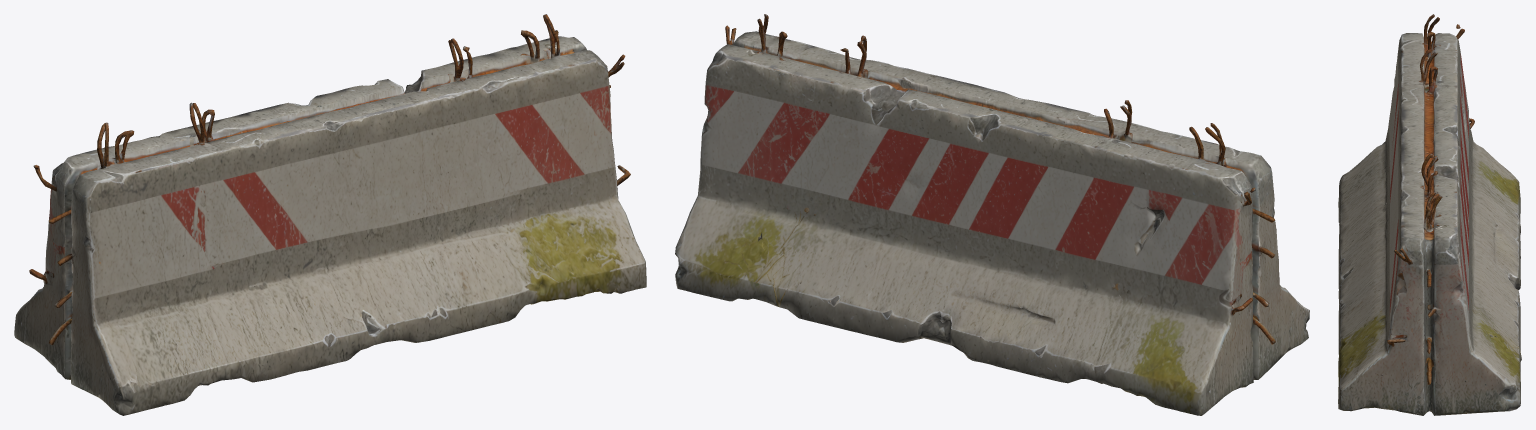
Rendered from City_Barrier.fbx.
3 renders of one model, left to right at view 1: azimuth 30°, elevation 25°; view 2: azimuth 150°, elevation 25°; view 3: azimuth 270°, elevation 25°, orthographic. The views are drawn at different scales.
Parts seen in each view (by area): view 1: City_Barrier; view 2: City_Barrier; view 3: City_Barrier.
Boxes of the visible parts, left/top/right/bottom form: City_Barrier: left=14, top=14, right=646, bottom=415; City_Barrier: left=675, top=14, right=1309, bottom=415; City_Barrier: left=1338, top=14, right=1521, bottom=415.
Size of the model in its own units: 3 by 1.27 by 1.03.
Materials: 1 (1 with a texture image).
